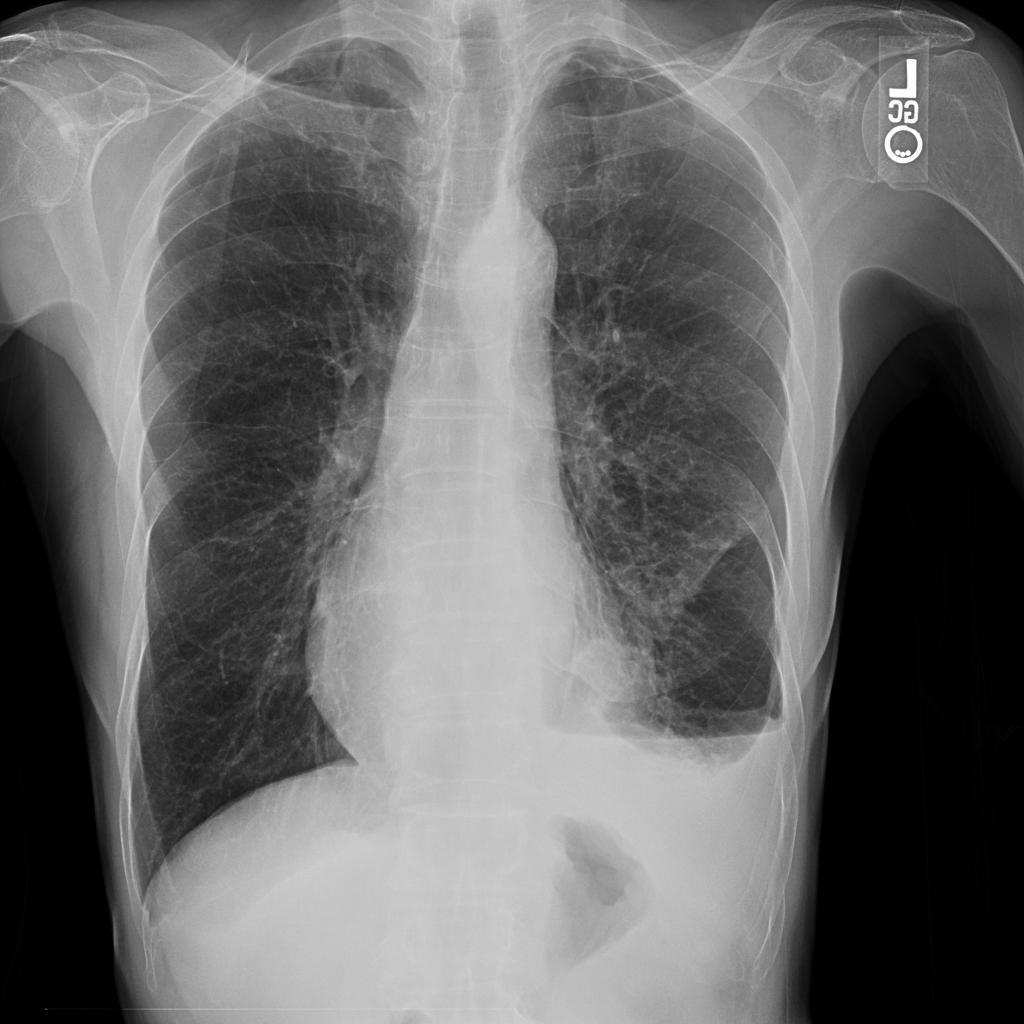Nodule: (113, 92, 147, 112)
